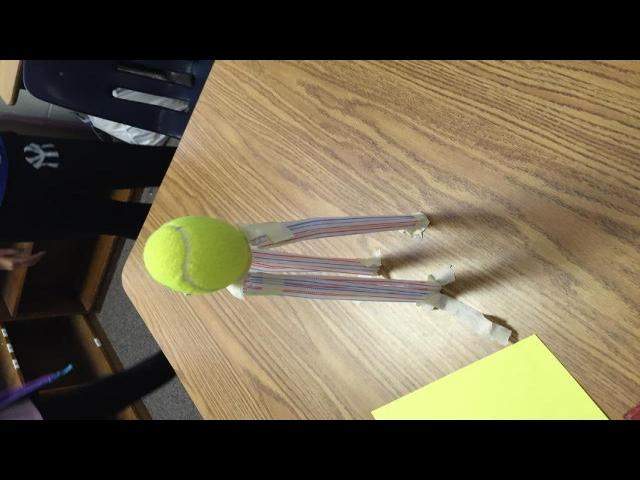tennis-ball: (142, 214, 252, 294)
